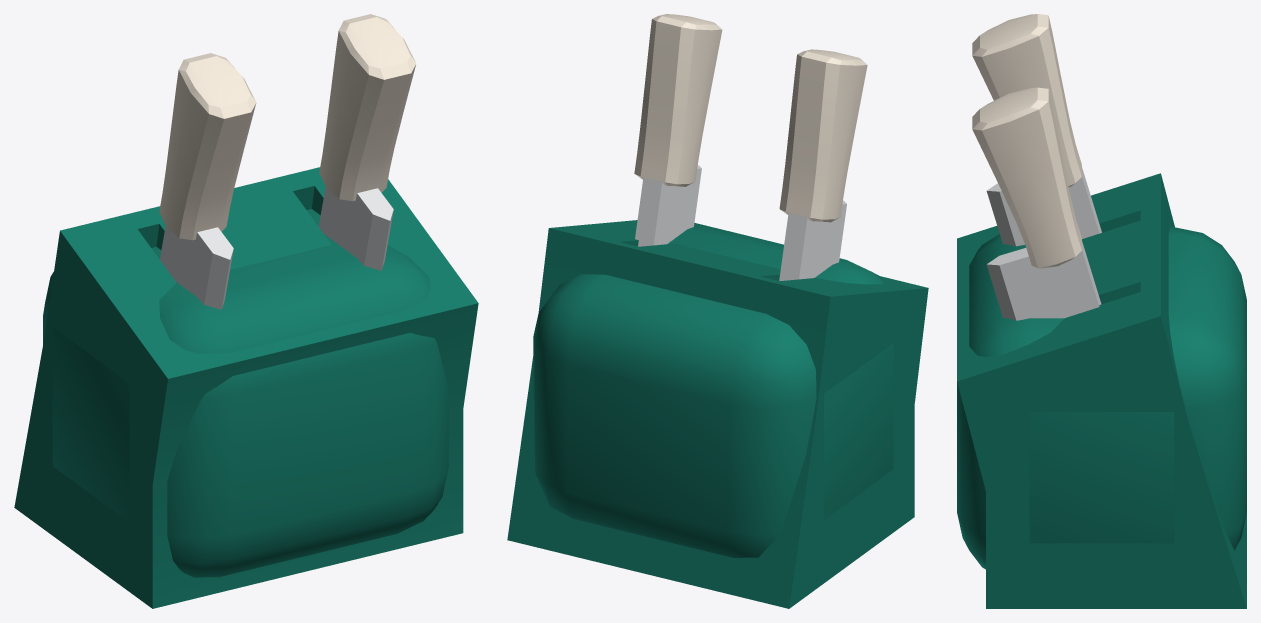
The model's file is knives_c.glb.
3 views of the same model, side by side, from view 1: azimuth 30°, elevation 25°; view 2: azimuth 150°, elevation 25°; view 3: azimuth 270°, elevation 25° (orthographic). The views are drawn at different scales.
Parts seen in each view (by area): view 1: body; view 2: body; view 3: body.
Part boxes in pixels (box(x1,y1,x2,y2)): body: box(14, 14, 478, 608); body: box(507, 14, 928, 608); body: box(957, 14, 1246, 608).
Bounding box in the file's own units: 0.14 × 0.22 × 0.12.
